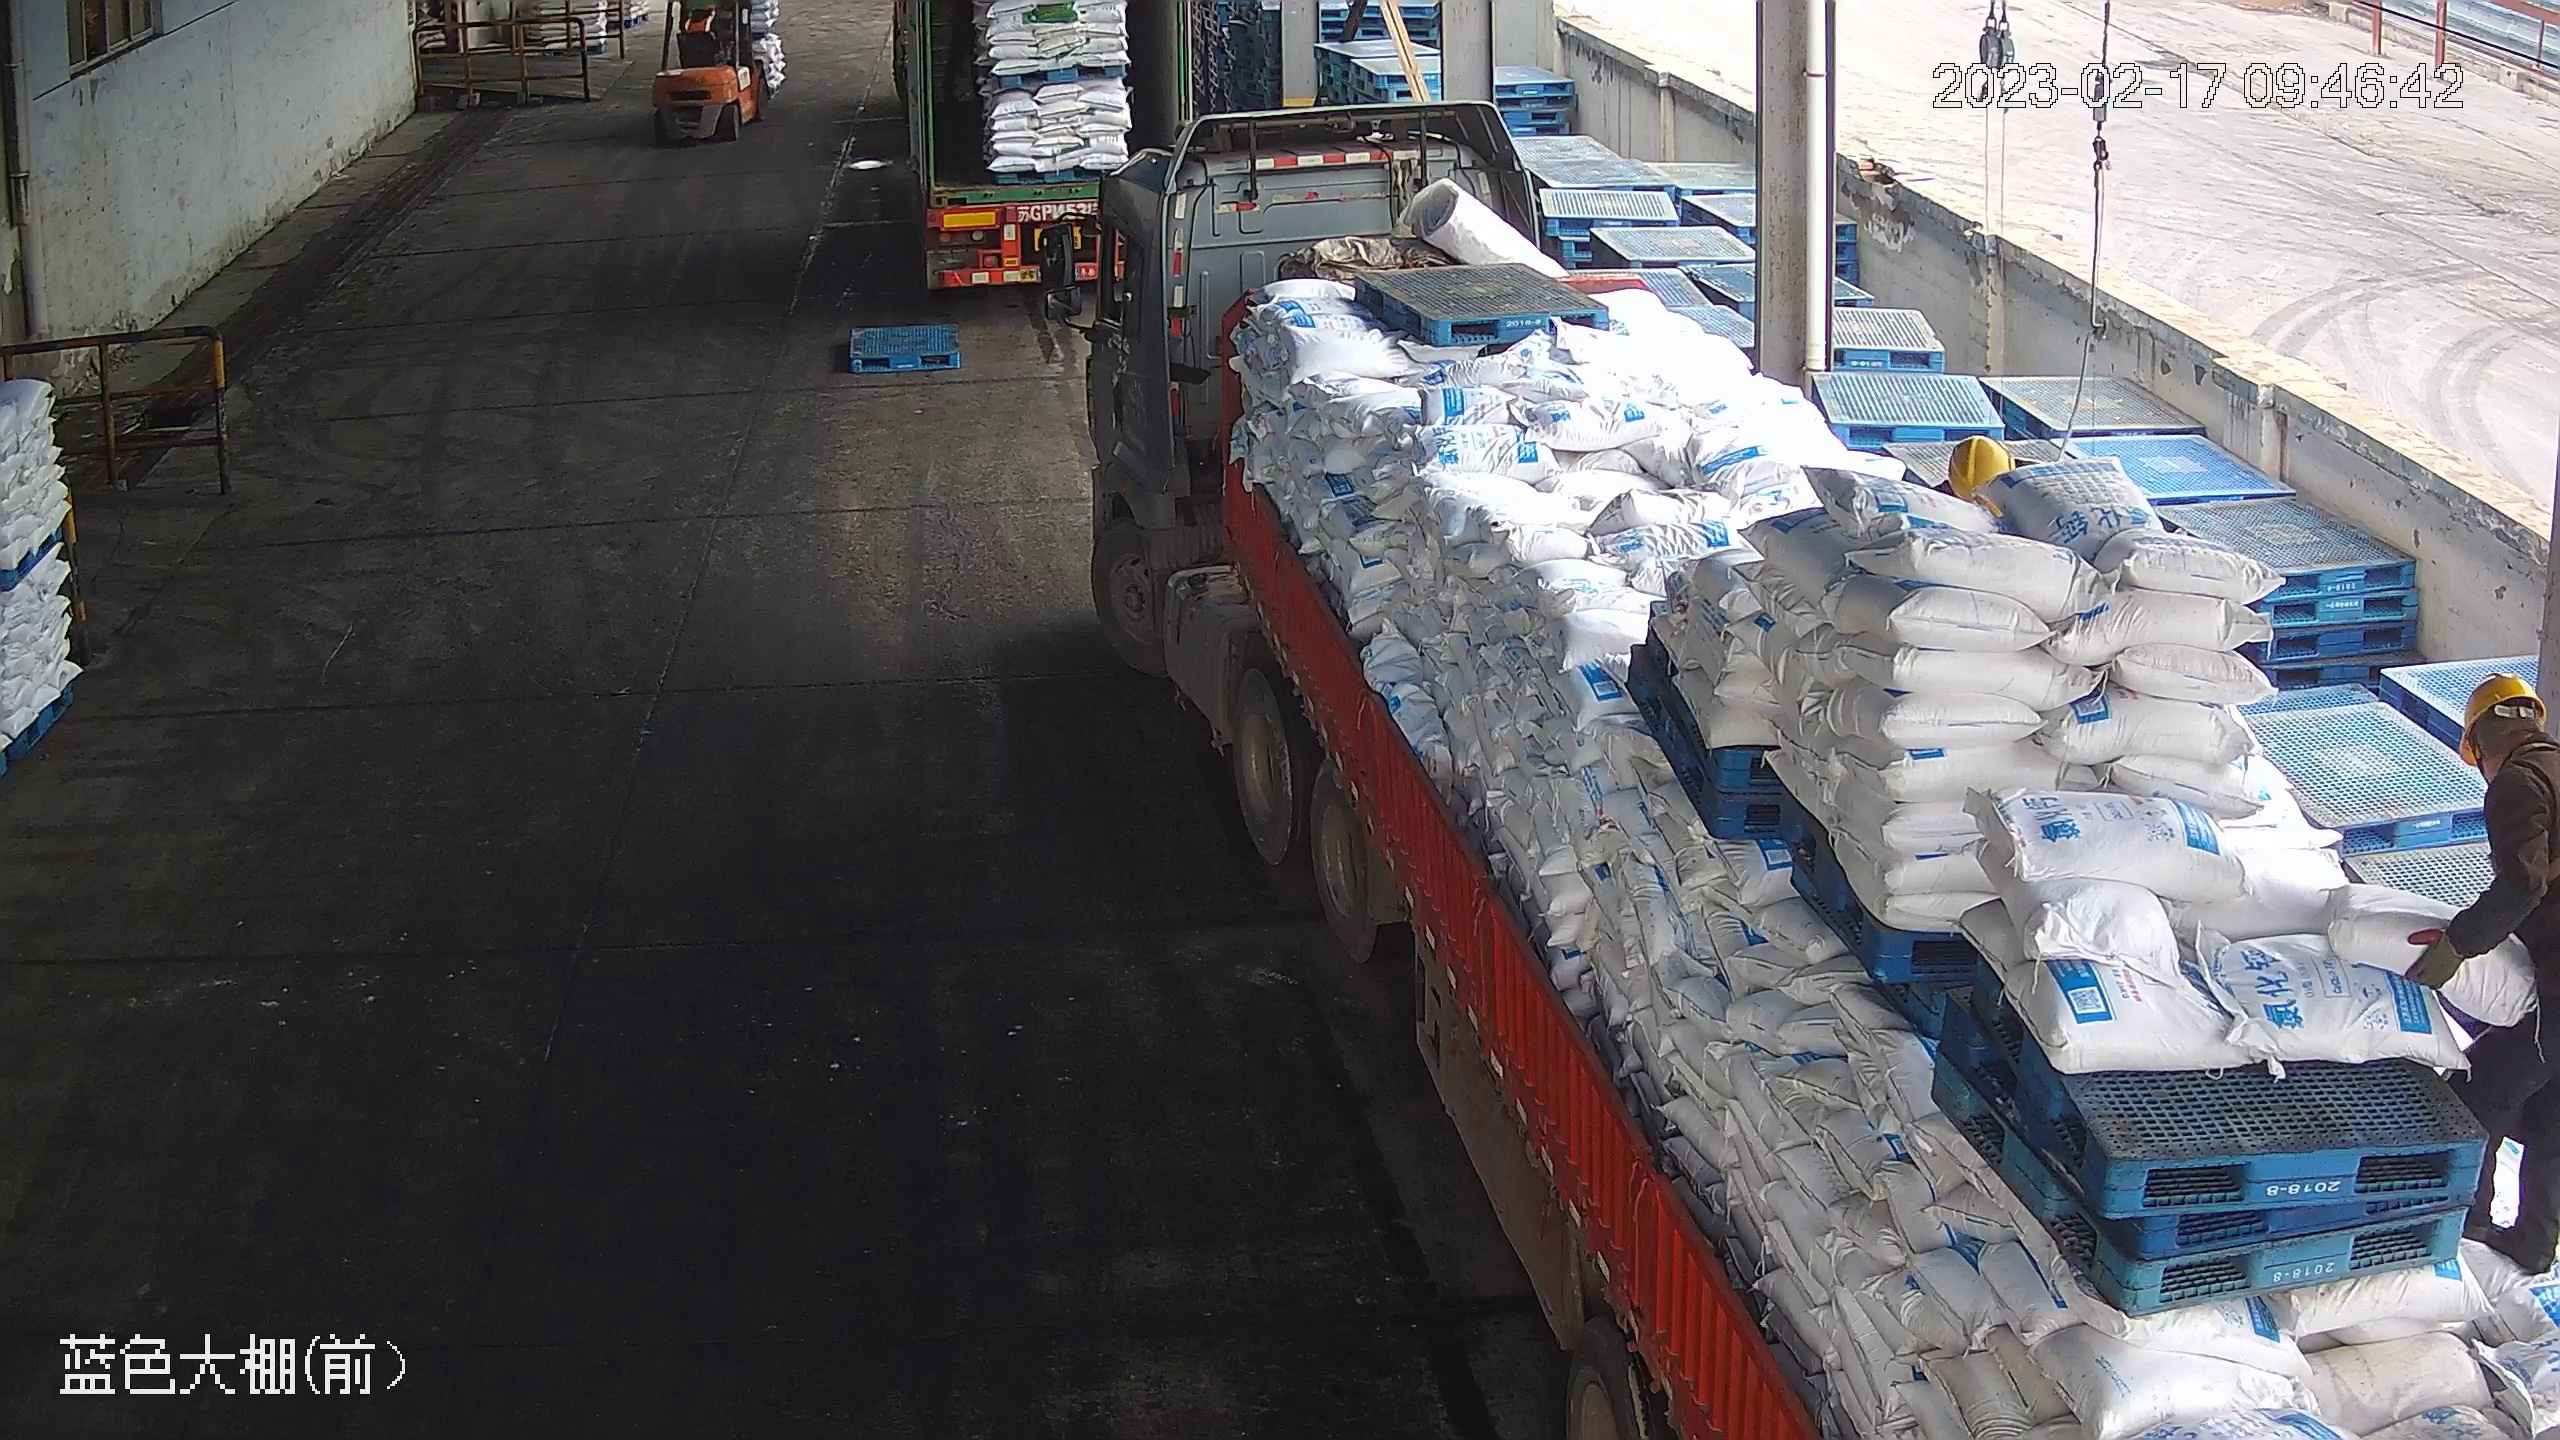belt: (2514, 753, 2560, 891)
head: (2448, 671, 2560, 837)
helmet: (2451, 667, 2552, 760), (1945, 433, 2018, 497)
people: (2403, 669, 2560, 1287)
truck: (1064, 159, 2554, 1438), (873, 1, 1220, 306)
